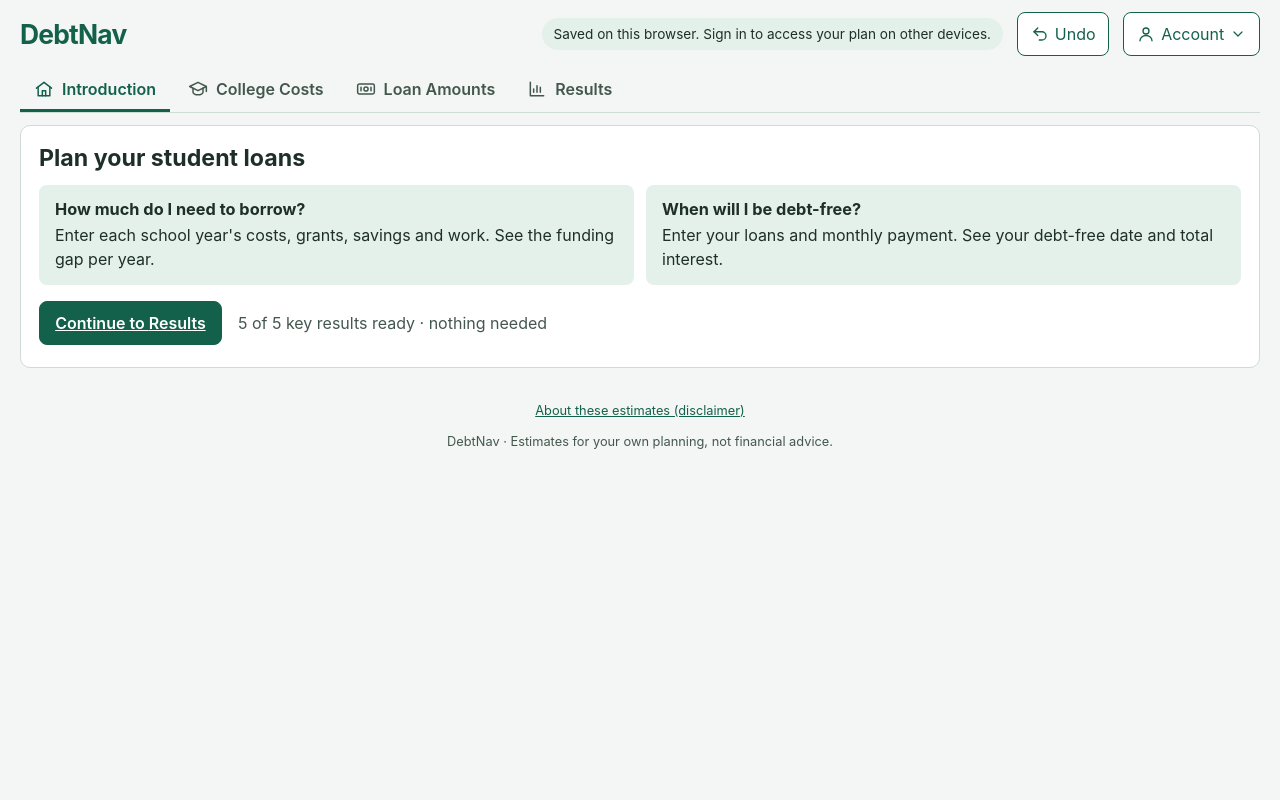
Test: in the planner › JSON import replacement can be undone; deletion is not in the history
Click the button "Undo" at (1063, 34), box [1017,12,1109,56]
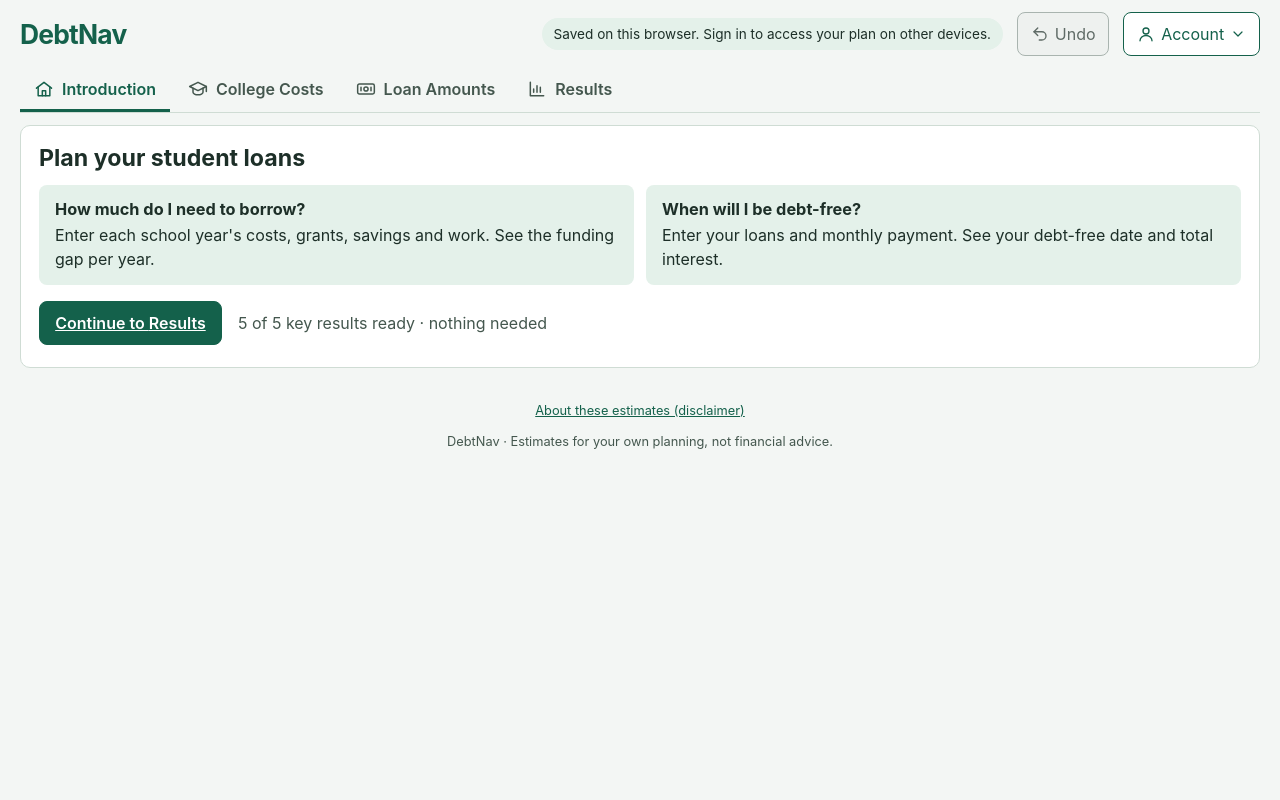
Click the button "Account" at (1192, 34), box [1123,12,1260,56]
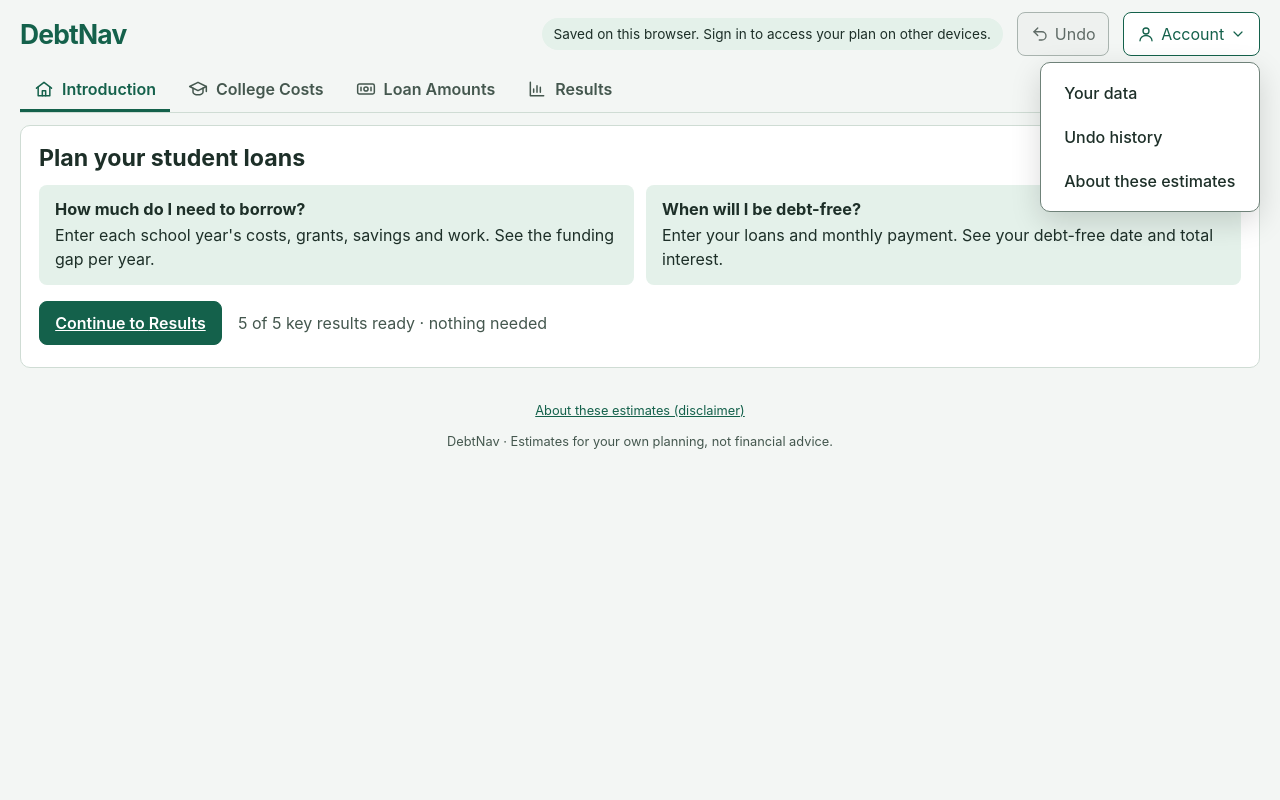
Click the button "Your data" at (1150, 93), box [1049,71,1251,115]
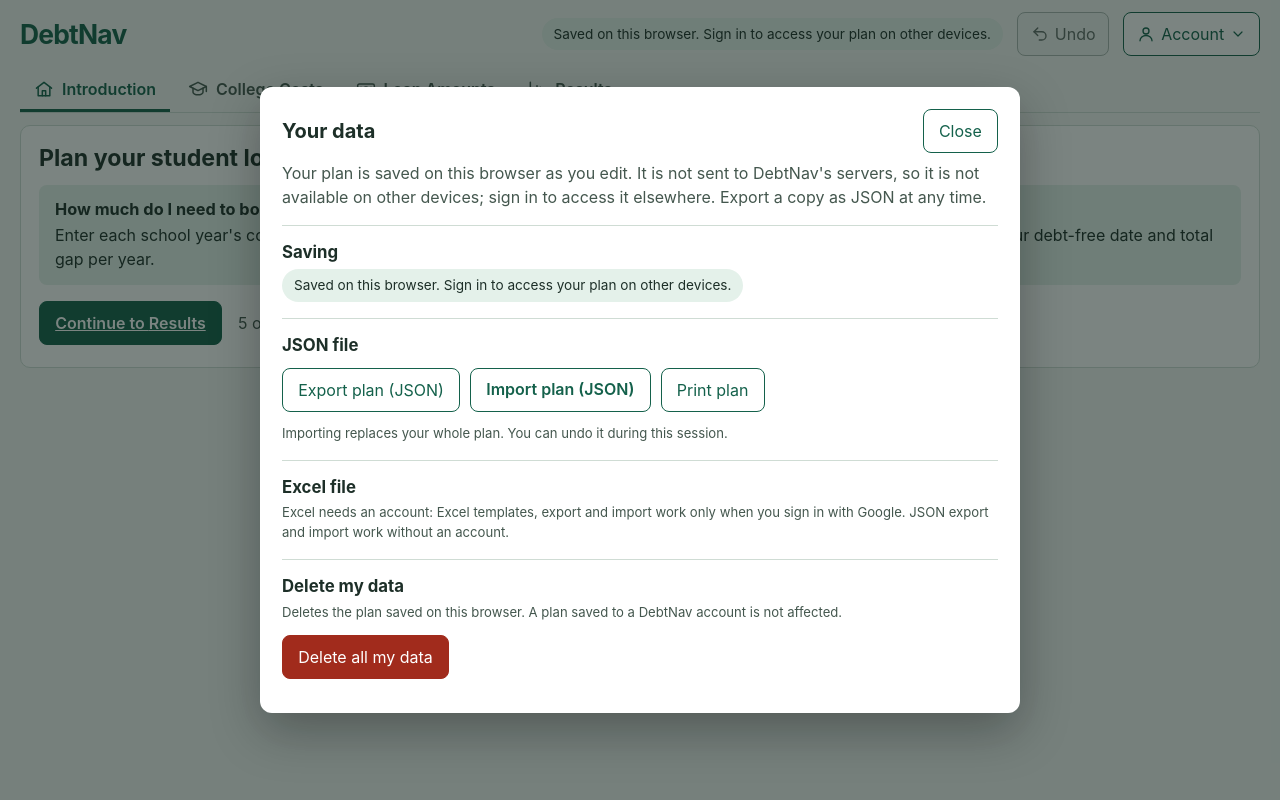
Click the button "Delete all my data" at (366, 656), box [282,634,449,678]
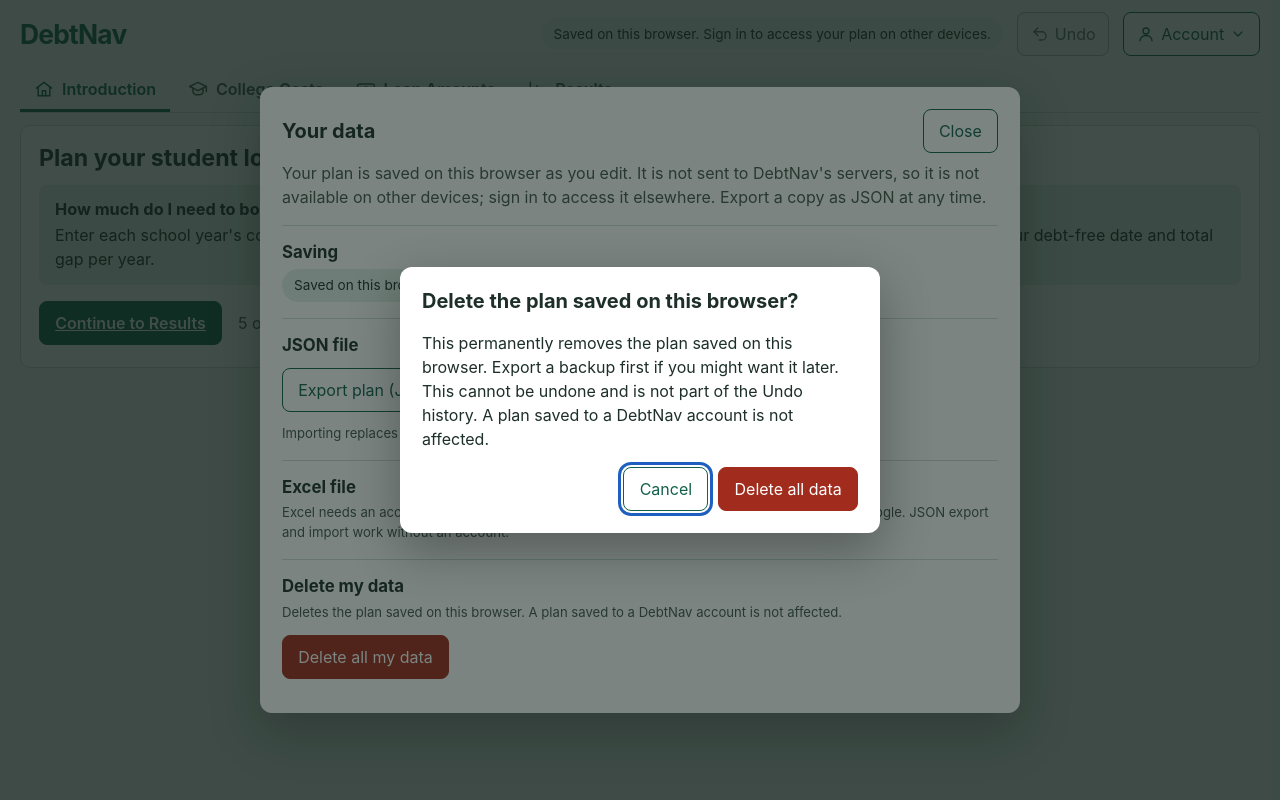
Now the dialog shows "not part of the Undo history", box [422,333,839,449]
